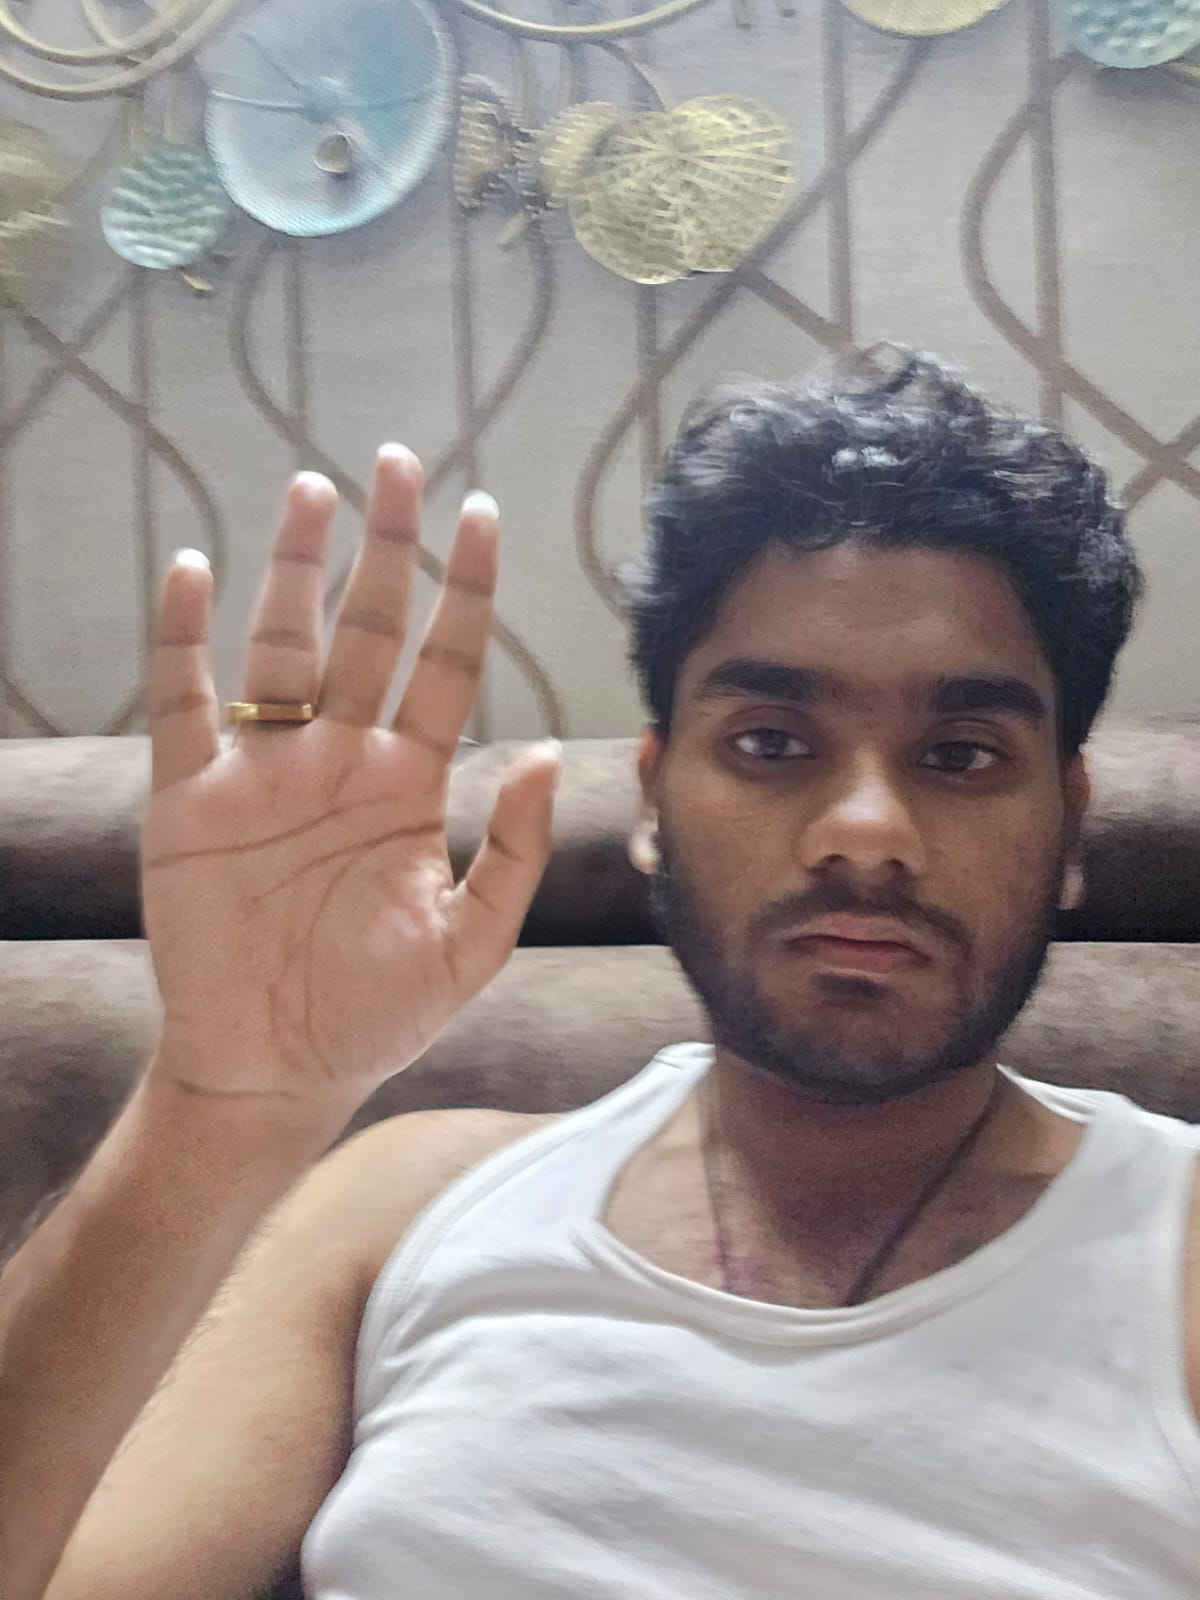hello: (134, 436, 566, 1099)
